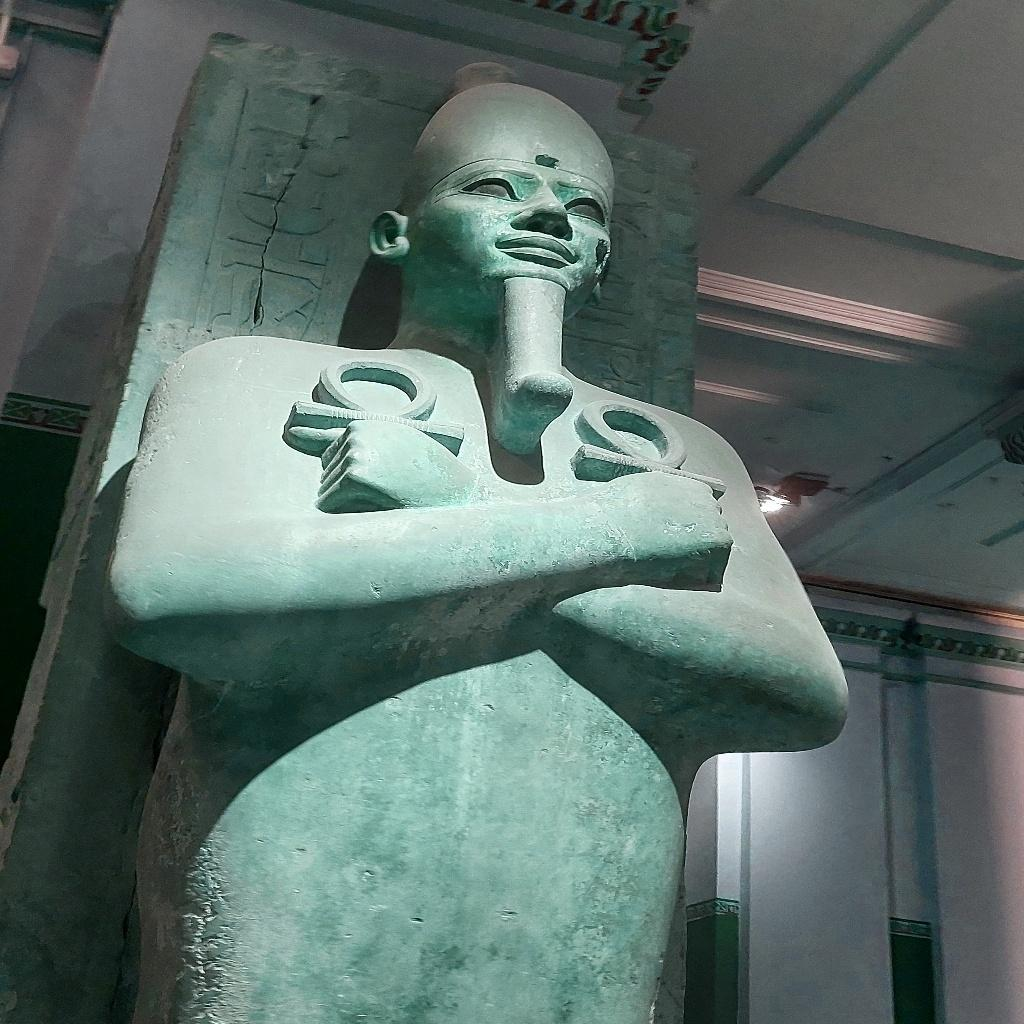Colossus of Senuseret I: (97, 62, 856, 1018)
